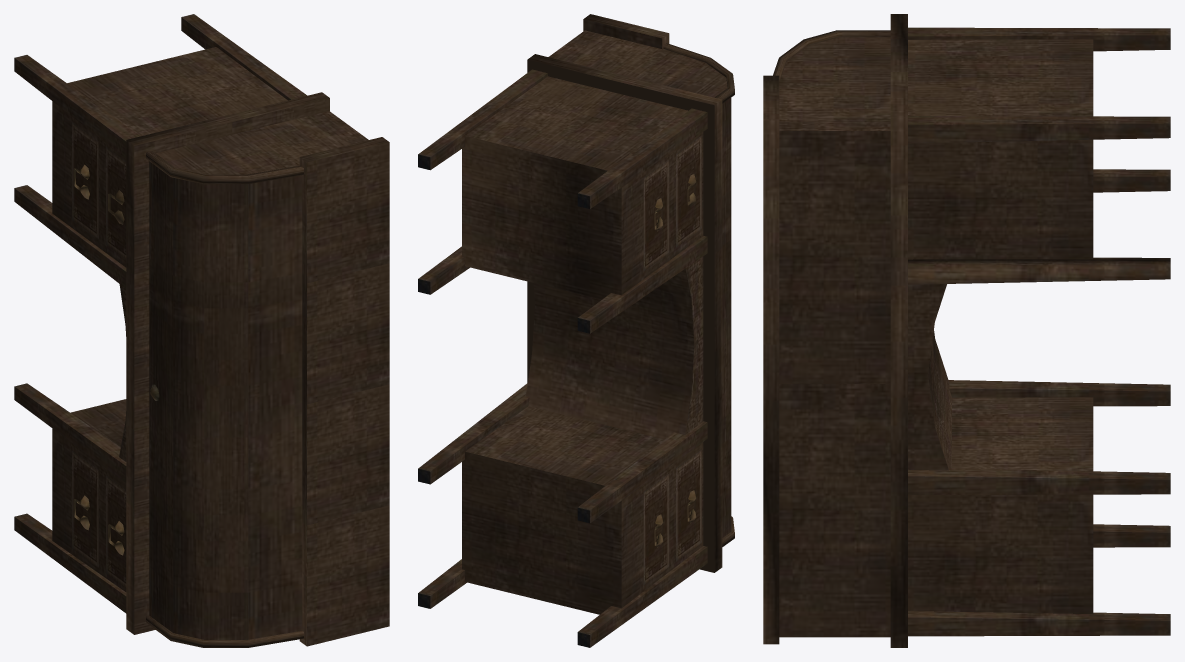
The model's file is furniture_rolltopdesk.glb.
3 views of the same model, side by side, from view 1: azimuth 30°, elevation 25°; view 2: azimuth 150°, elevation 25°; view 3: azimuth 270°, elevation 25° (orthographic). The views are drawn at different scales.
Size of the model in its own units: 31.82 by 75.67 by 52.68.
1 material, 1 textured.
